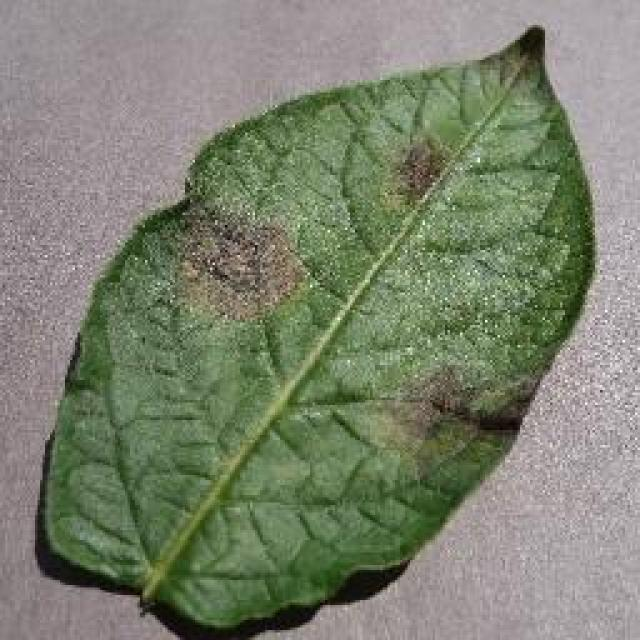late_blight: (32, 20, 600, 638)
